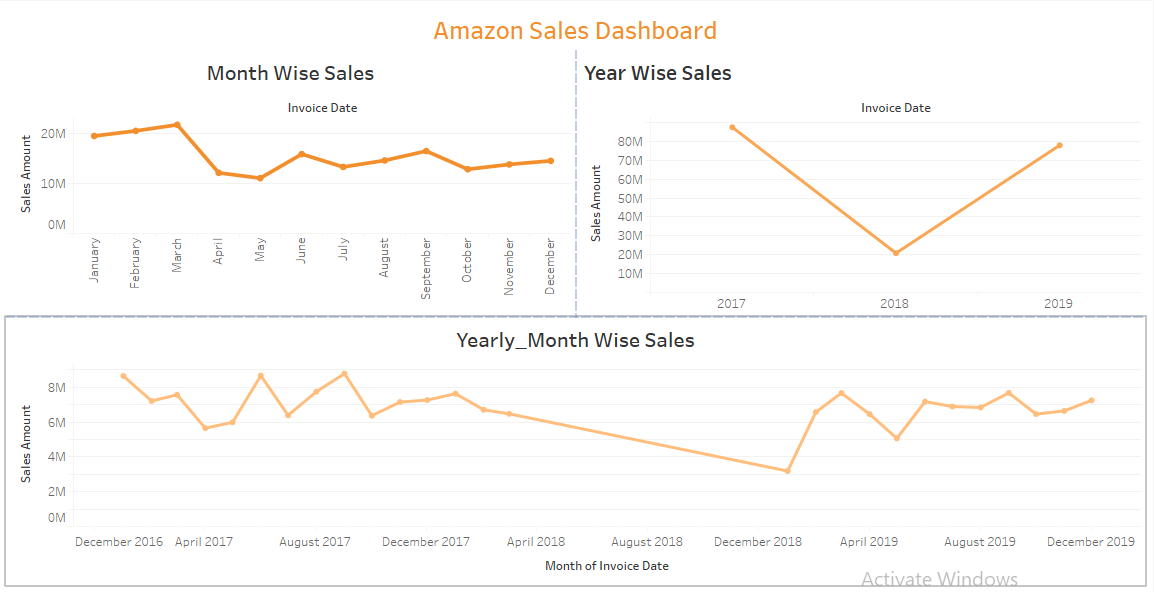

What the dashboard file says about the page in this screenshot:
{"tool":"tableau","page":{"name":"Dashboard 1","canvas":[1000,1000],"units":"permille","ordinal":0},"visuals":[{"type":"title","box":[6.9,13.5,986.1,69.2]},{"type":"worksheet","title":"months","mark":"Line","rows":["Sales Amount"],"cols":["Invoice Date"],"box":[6.9,82.8,493.1,451.9]},{"type":"worksheet","title":"year","mark":"Automatic","rows":["Sales Amount"],"cols":["Invoice Date"],"box":[500,82.8,493.1,451.9]},{"type":"worksheet","title":"year-month","mark":"Automatic","rows":["Sales Amount"],"cols":["Invoice Date"],"box":[6.9,534.6,986.1,451.9]}]}

Visuals, with their boxes on the dashboard's canvas, which has no fixed pixel size, in thousandths of its width and height (x1, y1, x2, y2). These are canvas units, not pixel positions in the 1154x592 screenshot, which may show the page scaled, cropped or inside an application window:
title: 7 14 993 83
"months" worksheet (Line marks): 7 83 500 535
"year" worksheet: 500 83 993 535
"year-month" worksheet: 7 535 993 986
